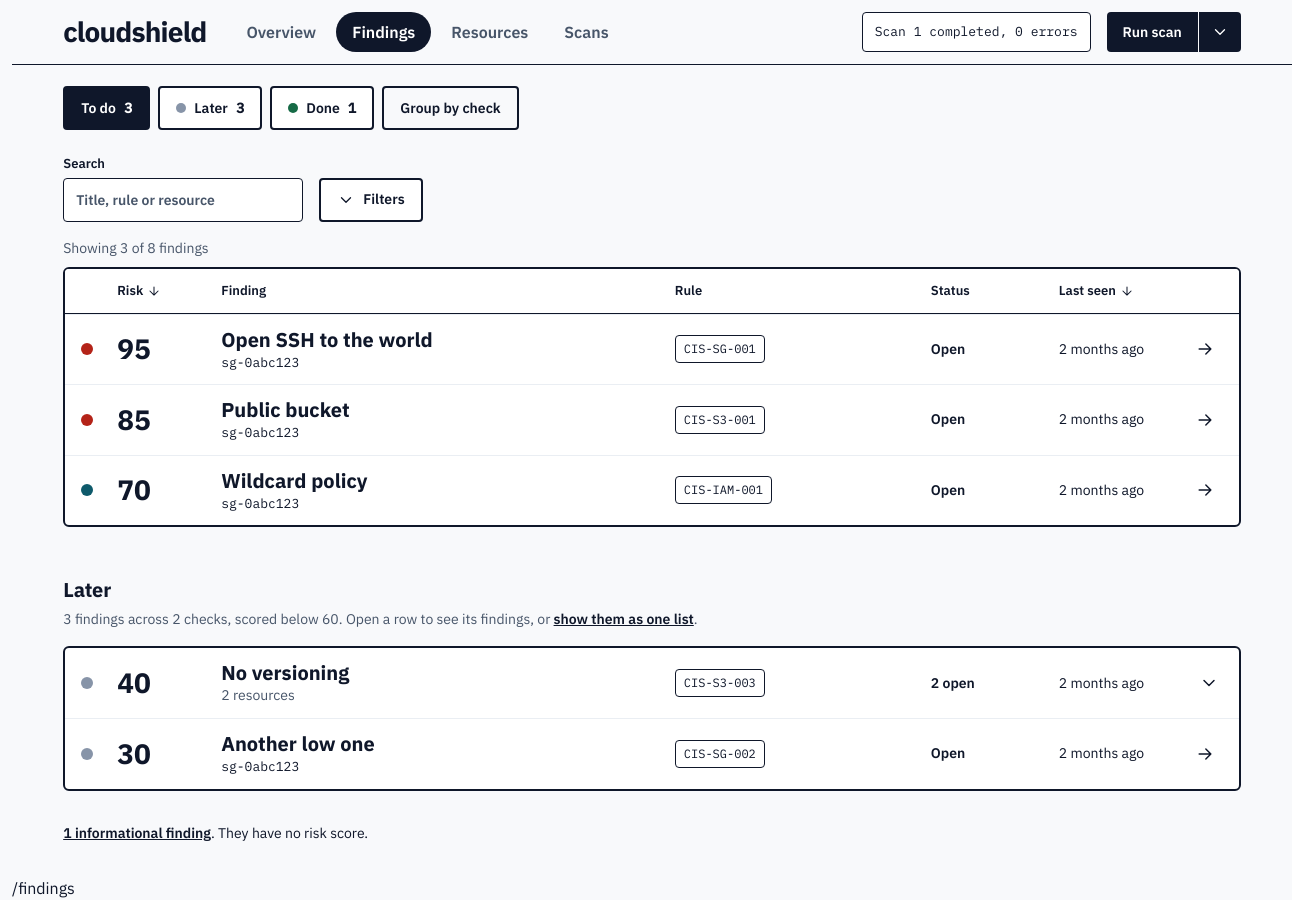
Test: Findings: the default list is Fix now and Next › keeps informational findings behind a count link that opens exactly those
(page scrolled)
Click the link "1 informational finding" at (137, 832), box [63,824,211,842]
(page scrolled)
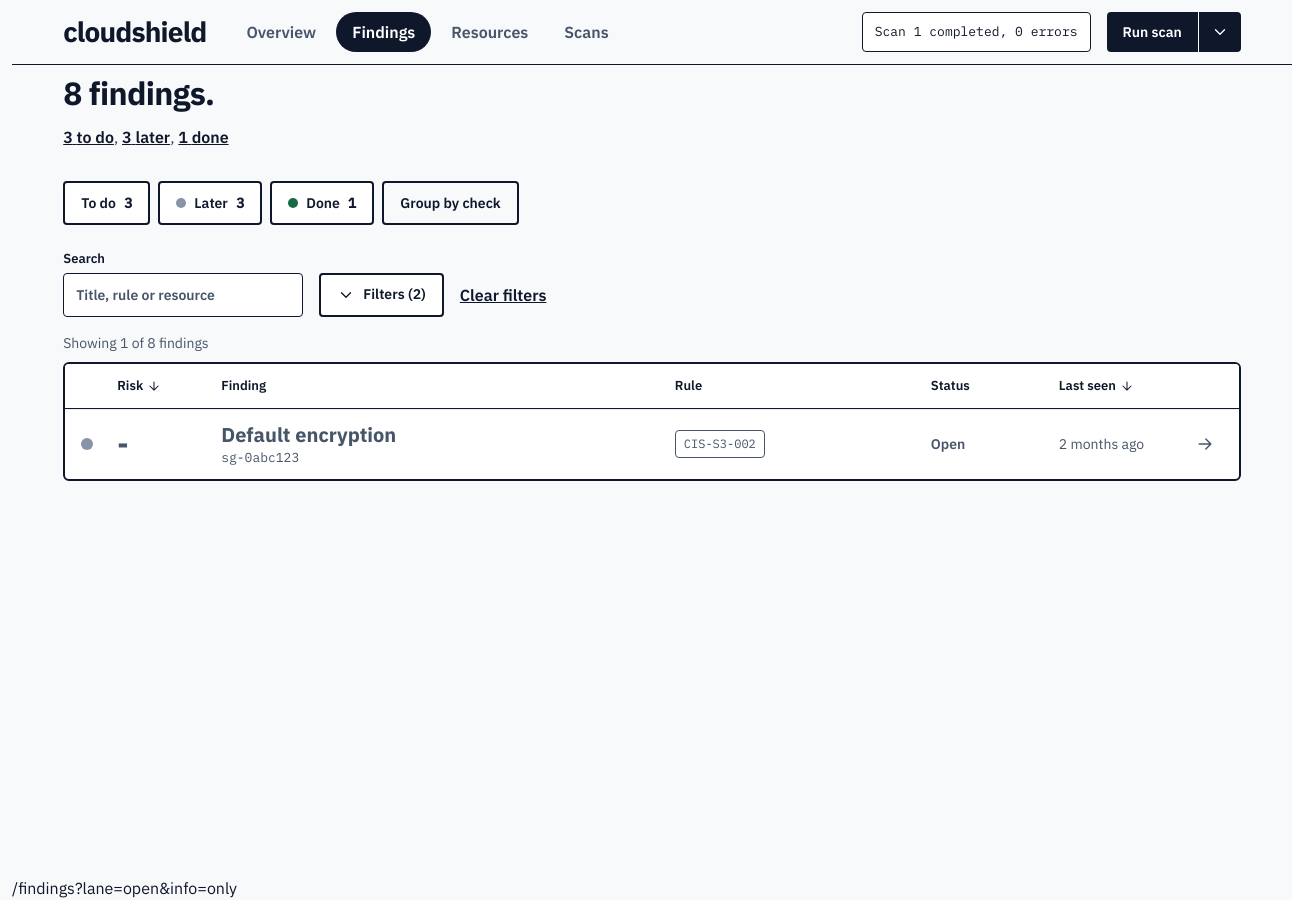
Result: the text with test id "location" reads "/findings?lane=open&info=only" at [12,878,237,898]
Result: the text "Showing 1 of 8 findings" is shown at [63,334,209,352]
